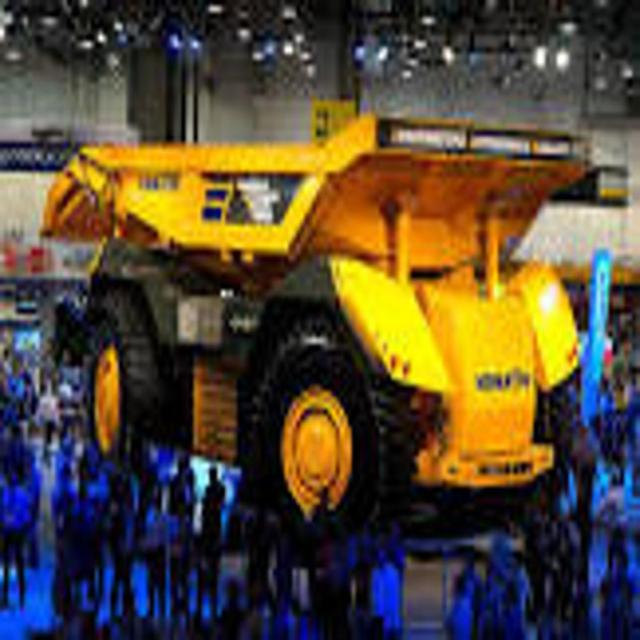dump_truck: (37, 100, 598, 532)
